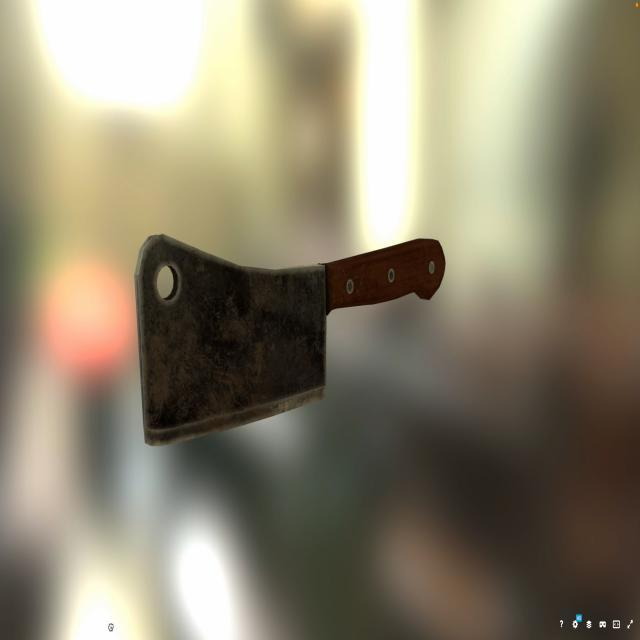cleaver: (135, 234, 446, 416)
